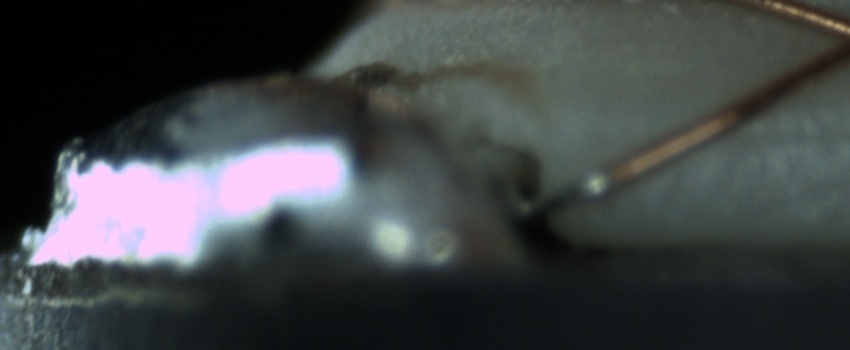CL: (805, 4, 850, 70)
DL: (709, 106, 850, 168)
TB: (573, 166, 612, 204)
TS: (523, 168, 619, 218)
TTCW: (515, 150, 648, 221)
